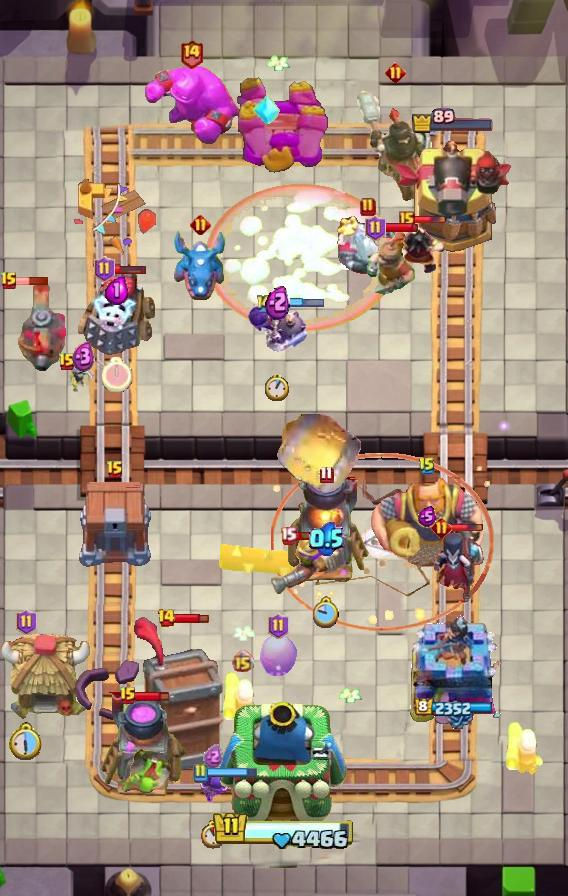bar-level: (118, 748, 172, 796)
bomb: (76, 482, 154, 568)
bomb-tower: (266, 532, 330, 598)
clock: (212, 810, 356, 852)
clone: (140, 62, 242, 146)
dark-prince: (0, 281, 66, 371)
dart-goblin: (132, 616, 223, 774)
dirt: (274, 406, 364, 498)
earthquake: (367, 230, 415, 296)
electro-spirit: (309, 520, 344, 555), (266, 284, 291, 320), (72, 341, 95, 373), (105, 275, 129, 305), (203, 743, 223, 769), (418, 505, 436, 527)
elixir: (9, 722, 44, 762), (102, 357, 132, 392), (313, 596, 340, 628), (199, 820, 227, 849), (265, 375, 289, 402)
emote: (272, 297, 324, 309), (206, 766, 258, 777), (135, 690, 170, 703), (383, 222, 419, 234), (112, 263, 147, 275), (174, 612, 209, 624), (14, 276, 50, 286), (413, 215, 447, 225), (450, 523, 484, 533), (294, 530, 314, 541)
giant-skeleton: (369, 472, 485, 572)
goblin: (199, 771, 230, 807)
goblin-ball: (246, 301, 308, 353)
golem: (75, 265, 159, 355)
graveyard: (171, 228, 229, 302)
guard: (270, 453, 493, 632)
heal-spirit: (67, 360, 99, 398)
hog: (258, 634, 298, 678)
hunter: (97, 692, 187, 800), (282, 475, 370, 585)
inferno-dragon: (353, 87, 437, 203)
king-tower: (220, 702, 348, 827)
lumberjack: (392, 224, 446, 276)
minion: (218, 543, 320, 581)
mortar-evolution: (335, 213, 401, 279)
pad_2: (253, 93, 281, 127)
phoenix-big: (204, 182, 398, 333)
prince: (0, 632, 94, 722)
queen-tower: (406, 614, 503, 730)
rascal-boy: (431, 530, 485, 604)
selected: (411, 108, 495, 134), (414, 698, 494, 718)
text: (179, 39, 204, 70), (366, 215, 387, 241), (94, 256, 115, 282), (16, 609, 37, 635), (268, 613, 289, 639), (230, 650, 253, 673), (385, 61, 406, 83), (190, 213, 211, 235), (431, 518, 453, 539), (255, 294, 275, 315), (157, 608, 176, 628), (0, 271, 18, 291), (58, 352, 76, 372), (418, 456, 436, 476), (106, 460, 124, 480), (119, 686, 137, 706), (279, 526, 296, 545), (360, 197, 376, 217), (192, 763, 208, 783), (399, 211, 415, 229), (319, 465, 334, 483)
tombstone: (221, 669, 263, 727), (504, 719, 546, 777)
tower-bar: (392, 138, 514, 256)
